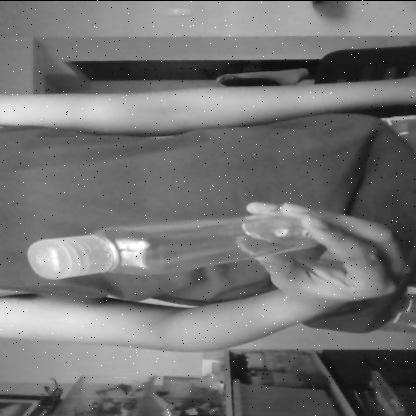Plastic Bottle: (17, 205, 328, 287)
